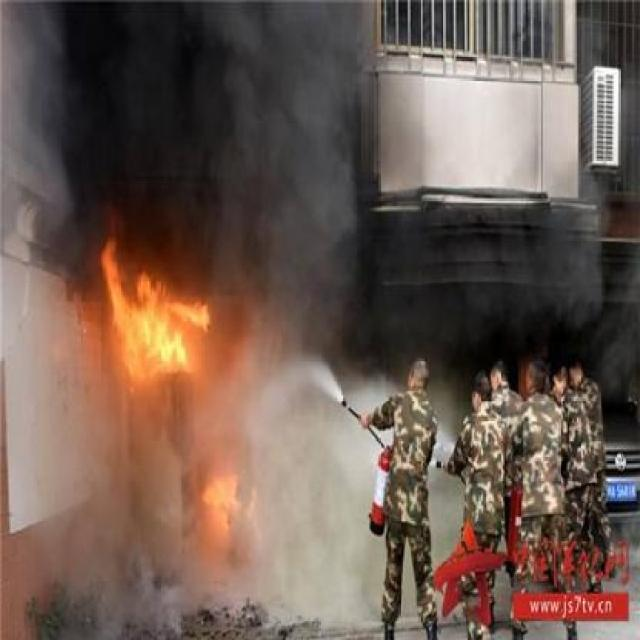Fire: (98, 242, 216, 372), (187, 462, 244, 556)
Smoke: (73, 0, 354, 239), (218, 242, 348, 468)
